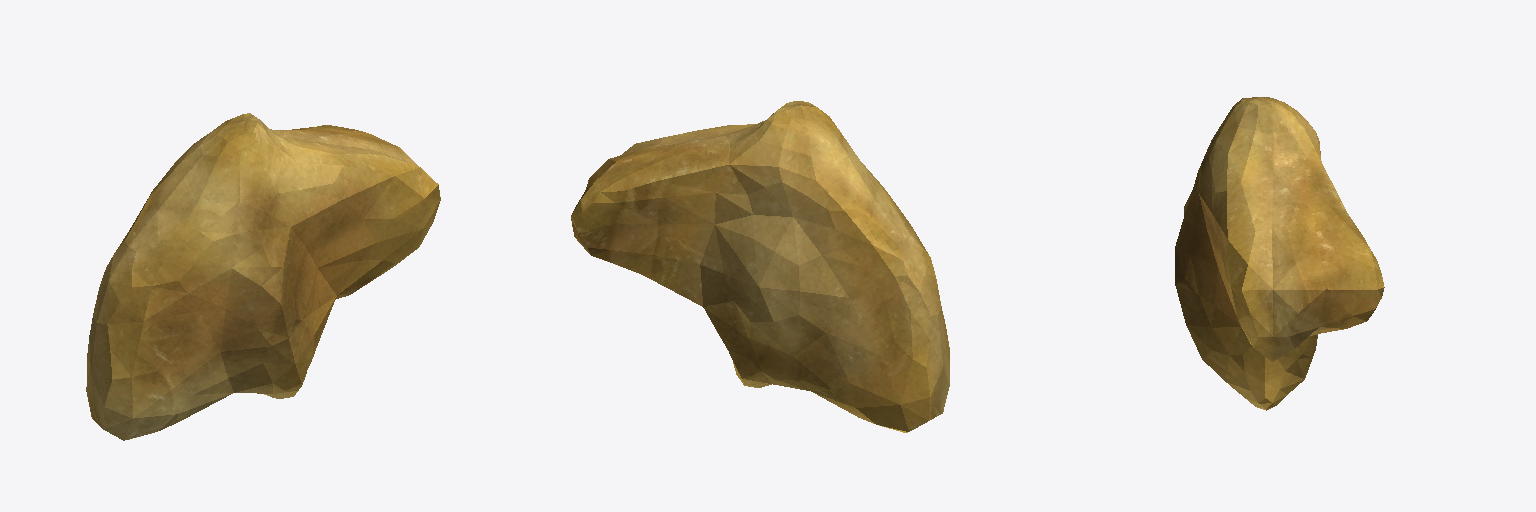
3 views of the same model, side by side, from view 1: azimuth 30°, elevation 25°; view 2: azimuth 150°, elevation 25°; view 3: azimuth 270°, elevation 25° (orthographic).
Visible parts, largest first — view 1: art_goldfish_Icosphere; view 2: art_goldfish_Icosphere; view 3: art_goldfish_Icosphere.
Boxes of the visible parts, box(x1,y1,x2,y2) form: art_goldfish_Icosphere: box(86, 113, 440, 440); art_goldfish_Icosphere: box(571, 101, 949, 432); art_goldfish_Icosphere: box(1175, 97, 1384, 410).
Bounding box in the file's own units: 3.54 × 2.94 × 1.88.
1 materials, 1 textured.